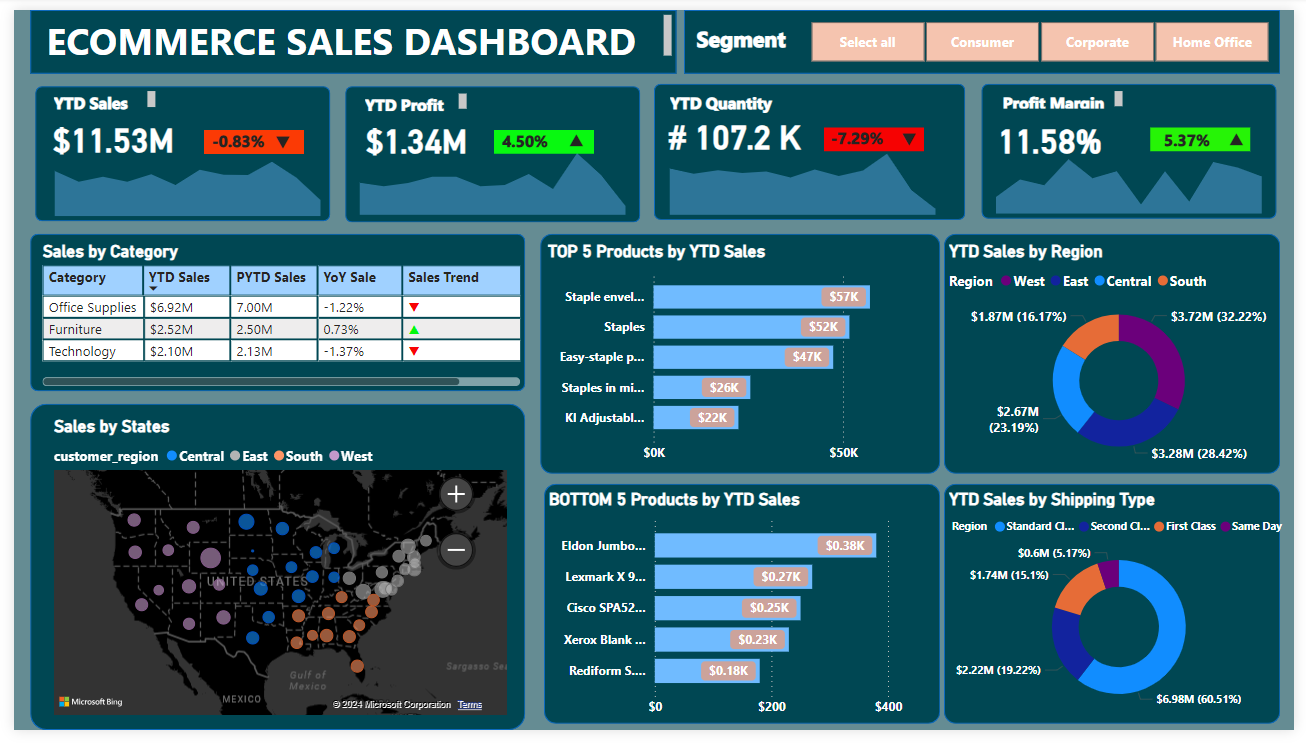

This screenshot's page, from the dashboard's own definition file:
{"tool":"powerbi","page":{"name":"Page 1","canvas":[1280,720],"ordinal":0},"visuals":[{"type":"shape","box":[16.2,0,646.2,63.8],"z":0},{"type":"textbox","box":[0,0,662.5,55],"z":1000},{"type":"shape","box":[21.2,76.2,295,135],"z":2000},{"type":"card","fields":{"Values":["ecommerce_data.YoY Sale"]},"box":[480.3,119.8,76.2,30],"z":3000},{"type":"card","fields":{"Values":["ecommerce_data.YTD Sales"]},"box":[21.2,91.2,156.2,73.8],"z":4000},{"type":"card","fields":{"Values":["ecommerce_data.Sales Trend"]},"box":[551.5,121,32.5,30],"z":5000},{"type":"areaChart","fields":{"Category":["Calendar.Month"],"Y":["Sum(ecommerce_data.sales_per_order)"]},"box":[26.2,128.8,295,82.5],"z":6000},{"type":"shape","box":[331.2,76.2,295,136.2],"z":7000},{"type":"shape","box":[190,120,100,23.8],"z":8000},{"type":"card","fields":{"Values":["ecommerce_data.YTD Profit"]},"box":[340,92.5,125,73.8],"z":9000},{"type":"card","fields":{"Values":["ecommerce_data.YoY Sale"]},"box":[188.8,118.8,71.2,28.8],"z":10000},{"type":"shape","box":[480,120,100,23.8],"z":11000},{"type":"card","fields":{"Values":["ecommerce_data.Sales Trend"]},"box":[252.5,118.8,32.5,30],"z":12000},{"type":"areaChart","fields":{"Category":["Calendar.Month"],"Y":["Sum(ecommerce_data.profit_per_order)"]},"box":[331.2,127.5,295,82.5],"z":13000},{"type":"textbox","box":[346.2,78.8,111.2,27.5],"z":14000},{"type":"textbox","box":[35,76.2,111.2,28.8],"z":15000},{"type":"card","fields":{"Values":["ecommerce_data.YoY Profit"]},"box":[480,118.8,62.5,28.8],"z":16000},{"type":"card","fields":{"Values":["ecommerce_data.Profit Trend"]},"box":[543.8,117.5,37.5,30],"z":17000},{"type":"card","fields":{"Values":["ecommerce_data.YoY Sale"]},"box":[1129,116.7,76.2,30],"z":19000},{"type":"card","fields":{"Values":["ecommerce_data.YoY Sale"]},"box":[802.1,116.9,76.2,30],"z":19000},{"type":"card","fields":{"Values":["ecommerce_data.Sales Trend"]},"box":[873.4,118.1,32.5,30],"z":20000},{"type":"shape","box":[16.2,223.8,495,157.5],"z":20000},{"type":"shape","box":[639.6,73.8,311.2,136.2],"z":21000},{"type":"card","fields":{"Values":["ecommerce_data.Sales Trend"]},"box":[1200.3,118,32.5,30],"z":21000},{"type":"shape","box":[810,117.5,100,23.8],"z":22000},{"type":"pivotTable","title":"Sales by Category","fields":{"Rows":["ecommerce_data.category_name"],"Values":["ecommerce_data.YTD Sales","ecommerce_data.PYTD Sales","ecommerce_data.YoY Sale","ecommerce_data.Sales Trend"]},"box":[23.8,231.2,487.5,150],"z":22000},{"type":"shape","box":[967.5,73.8,295,135],"z":23000},{"type":"areaChart","fields":{"Category":["Calendar.Month"],"Y":["Sum(ecommerce_data.order_quantity)"]},"box":[640.9,126.9,295,82.5],"z":23000},{"type":"textbox","box":[651.2,76.6,120,35],"z":24000},{"type":"shape","box":[16.2,393.8,495,326.2],"z":24000},{"type":"card","fields":{"Values":["ecommerce_data.YTD Profit Margin"]},"box":[957.5,92,156.2,73.8],"z":25000},{"type":"card","fields":{"Values":["ecommerce_data.YoY Qunatity"]},"box":[811.2,116.2,63.8,28.8],"z":25000},{"type":"card","fields":{"Values":["ecommerce_data.Qunatity Trend"]},"box":[876.2,116.2,37.5,30],"z":26000},{"type":"map","title":"Sales by States","fields":{"Y":["us_state_long_lat_codes.latitude"],"X":["us_state_long_lat_codes.longitude"],"Size":["ecommerce_data.YoY Sale"],"Series":["ecommerce_data.customer_region"]},"box":[35,406.2,462.5,305],"z":26000},{"type":"card","fields":{"Values":["ecommerce_data.YTD Concatenated QTY"]},"box":[642.9,88.9,156.2,73.8],"z":27000},{"type":"shape","box":[1136.2,117.5,100,23.8],"z":27000},{"type":"shape","box":[526.2,223.8,400,240],"z":28000},{"type":"areaChart","fields":{"Category":["Calendar.Month"],"Y":["ecommerce_data.Profit Margin"]},"box":[967.8,126.7,295,82.5],"z":29000},{"type":"shape","box":[530,473.8,396.2,240],"z":30000},{"type":"textbox","box":[984.2,76.2,130,27.5],"z":31000},{"type":"barChart","title":"TOP 5 Products by YTD Sales","fields":{"Category":["ecommerce_data.product_name"],"Y":["ecommerce_data.YTD Sales"]},"box":[528.8,231.2,393.8,230],"z":32000},{"type":"card","fields":{"Values":["ecommerce_data.YoY Profit Margin"]},"box":[1132.5,117.5,81.2,28.8],"z":33000},{"type":"barChart","title":"BOTTOM 5 Products by YTD Sales","fields":{"Category":["ecommerce_data.product_name"],"Y":["ecommerce_data.YTD Sales"]},"box":[529.8,478.6,392.9,236.9],"z":34000},{"type":"card","fields":{"Values":["ecommerce_data.Profit Margin Trend"]},"box":[1203.8,116.2,37.5,30],"z":35000},{"type":"shape","box":[930,223.8,336.2,240],"z":36000},{"type":"donutChart","title":"YTD Sales by Region","fields":{"Y":["ecommerce_data.YTD Sales"],"Category":["ecommerce_data.customer_region"]},"box":[930,231.2,350,230],"z":37000},{"type":"shape","box":[930,473.8,336.2,240],"z":38000},{"type":"donutChart","title":"YTD Sales by Shipping Type","fields":{"Y":["ecommerce_data.YTD Sales"],"Category":["ecommerce_data.shipping_type"]},"box":[930,478.8,350,230],"z":39000},{"type":"shape","box":[670,0,596.2,63.8],"z":40000},{"type":"slicer","fields":{"Values":["ecommerce_data.customer_segment"]},"box":[771.2,5,507.5,53.8],"z":41000},{"type":"textbox","box":[677.5,8.8,112.5,41.2],"z":41001}]}

Visuals, with their boxes in screenshot pixels (x1, y1, x2, y2), scaled from the page's 1280x720 canvas onto the 1306x743 screenshot:
shape: box(17, 0, 676, 66)
textbox: box(0, 0, 676, 57)
shape: box(22, 79, 323, 218)
card - ecommerce_data.YoY Sale: box(490, 124, 568, 155)
card - ecommerce_data.YTD Sales: box(22, 94, 181, 170)
card - ecommerce_data.Sales Trend: box(563, 125, 596, 156)
areaChart - Calendar.Month x Sum(ecommerce_data.sales_per_order): box(27, 133, 328, 218)
shape: box(338, 79, 639, 219)
shape: box(194, 124, 296, 148)
card - ecommerce_data.YTD Profit: box(347, 95, 474, 172)
card - ecommerce_data.YoY Sale: box(193, 123, 265, 152)
shape: box(490, 124, 592, 148)
card - ecommerce_data.Sales Trend: box(258, 123, 291, 154)
areaChart - Calendar.Month x Sum(ecommerce_data.profit_per_order): box(338, 132, 639, 217)
textbox: box(353, 81, 467, 110)
textbox: box(36, 79, 149, 108)
card - ecommerce_data.YoY Profit: box(490, 123, 554, 152)
card - ecommerce_data.Profit Trend: box(555, 121, 593, 152)
card - ecommerce_data.YoY Sale: box(1152, 120, 1230, 151)
card - ecommerce_data.YoY Sale: box(818, 121, 896, 152)
card - ecommerce_data.Sales Trend: box(891, 122, 924, 153)
shape: box(17, 231, 522, 393)
shape: box(653, 76, 970, 217)
card - ecommerce_data.Sales Trend: box(1225, 122, 1258, 153)
shape: box(826, 121, 928, 146)
"Sales by Category" pivotTable: box(24, 239, 522, 393)
shape: box(987, 76, 1288, 215)
areaChart - Calendar.Month x Sum(ecommerce_data.order_quantity): box(654, 131, 955, 216)
textbox: box(664, 79, 787, 115)
shape: box(17, 406, 522, 742)
card - ecommerce_data.YTD Profit Margin: box(977, 95, 1136, 171)
card - ecommerce_data.YoY Qunatity: box(828, 120, 893, 150)
card - ecommerce_data.Qunatity Trend: box(894, 120, 932, 151)
"Sales by States" map: box(36, 419, 508, 734)
card - ecommerce_data.YTD Concatenated QTY: box(656, 92, 815, 168)
shape: box(1159, 121, 1261, 146)
shape: box(537, 231, 945, 479)
areaChart - Calendar.Month x ecommerce_data.Profit Margin: box(987, 131, 1288, 216)
shape: box(541, 489, 945, 737)
textbox: box(1004, 79, 1137, 107)
"TOP 5 Products by YTD Sales" barChart: box(540, 239, 941, 476)
card - ecommerce_data.YoY Profit Margin: box(1156, 121, 1238, 151)
"BOTTOM 5 Products by YTD Sales" barChart: box(541, 494, 941, 738)
card - ecommerce_data.Profit Margin Trend: box(1228, 120, 1267, 151)
shape: box(949, 231, 1292, 479)
"YTD Sales by Region" donutChart: box(949, 239, 1305, 476)
shape: box(949, 489, 1292, 737)
"YTD Sales by Shipping Type" donutChart: box(949, 494, 1305, 731)
shape: box(684, 0, 1292, 66)
slicer - ecommerce_data.customer_segment: box(787, 5, 1305, 61)
textbox: box(691, 9, 806, 52)
